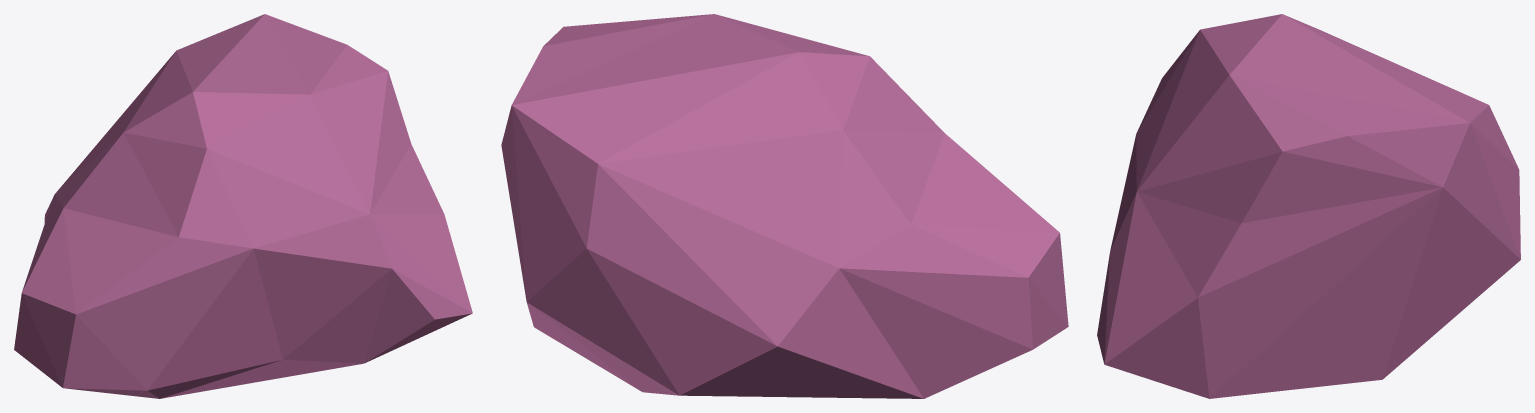
File: Puzzle_stone_3.glb
The picture shows the model from 3 angles, left to right: view 1: azimuth 30°, elevation 25°; view 2: azimuth 150°, elevation 25°; view 3: azimuth 270°, elevation 25°; orthographic projection. The views are drawn at different scales.
Visible parts, largest first — view 1: Puzzle_stone_03; view 2: Puzzle_stone_03; view 3: Puzzle_stone_03.
Part boxes in pixels (x1,y1,x2,y2): Puzzle_stone_03: [14, 14, 472, 398]; Puzzle_stone_03: [501, 14, 1068, 398]; Puzzle_stone_03: [1097, 14, 1520, 398].
Bounding box in the file's own units: 0.0763 × 0.0466 × 0.062.
